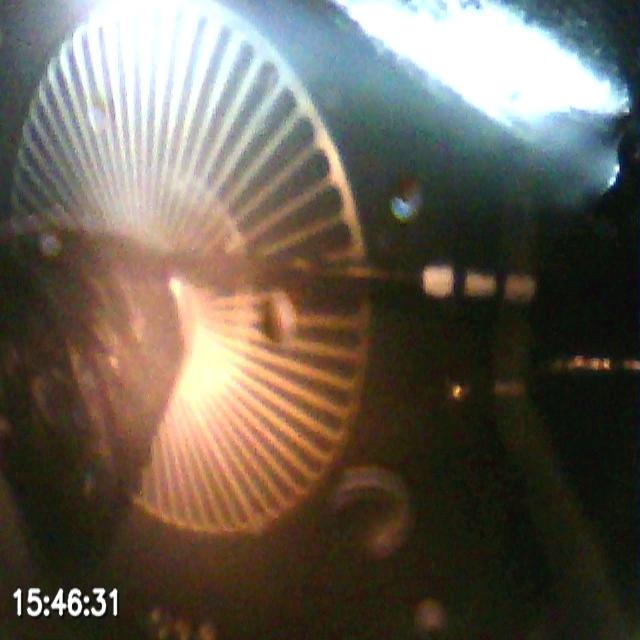white-dots: (421, 264, 537, 306)
